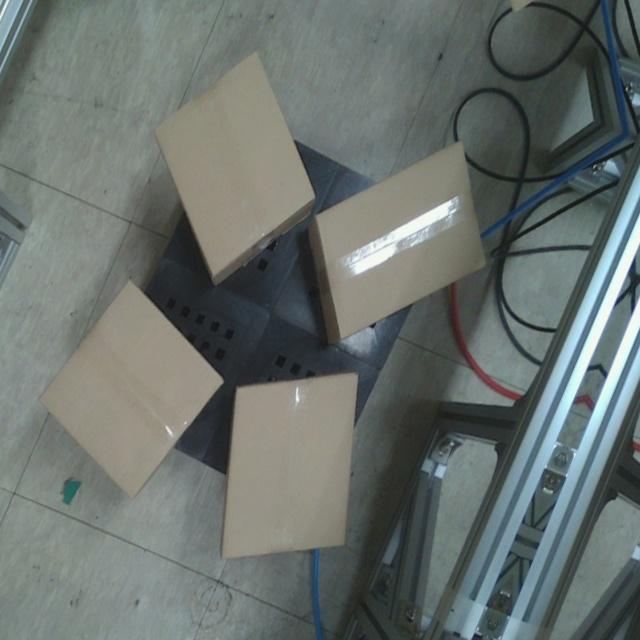box: (40, 280, 225, 497), (151, 53, 318, 275), (316, 140, 490, 339), (219, 374, 359, 562)
